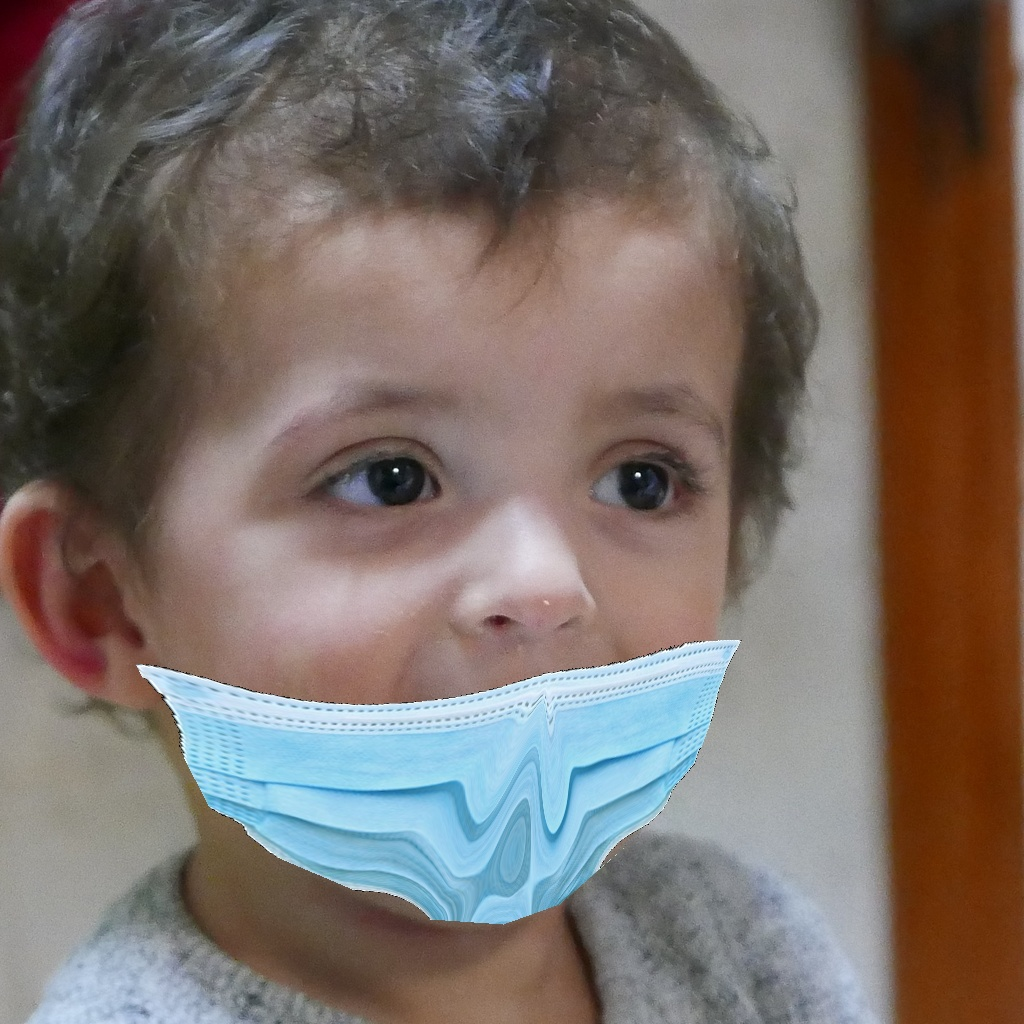mask_weared_incorrect: (225, 369, 734, 932)
